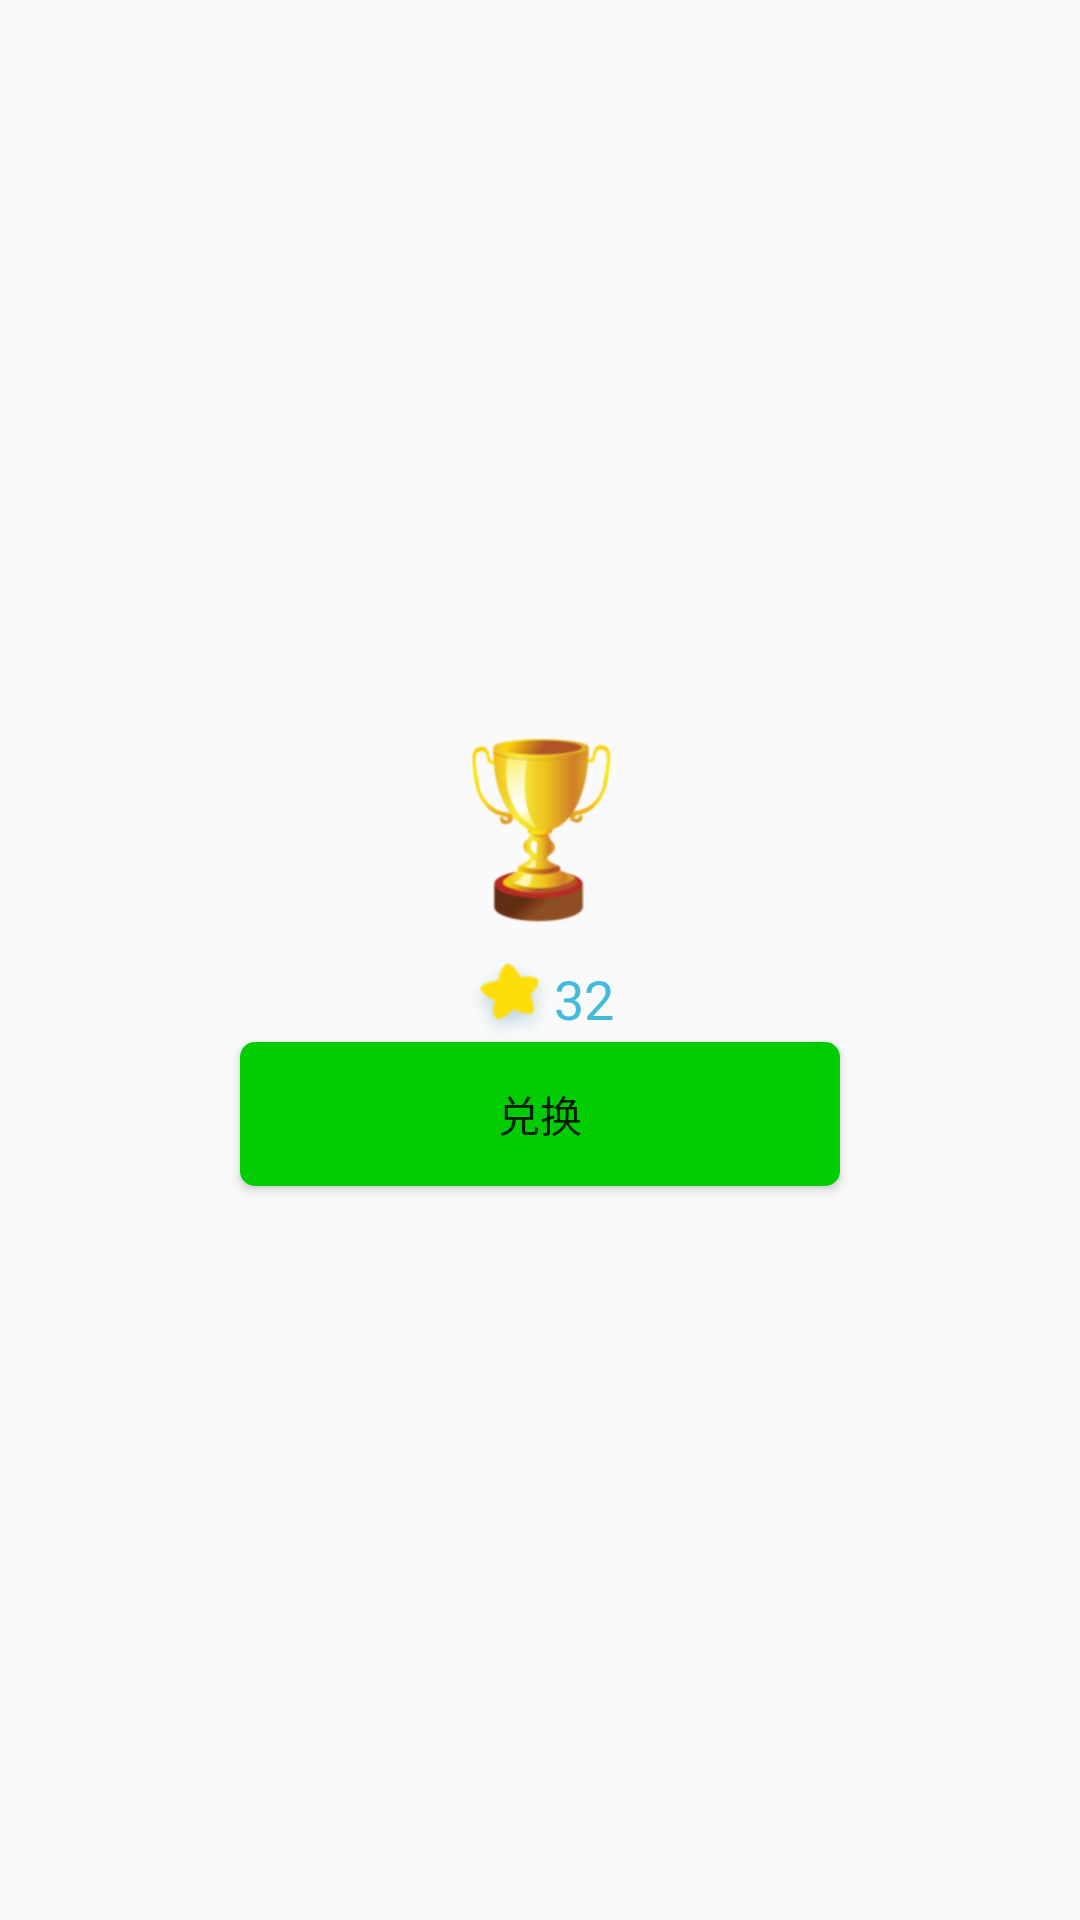

Icon bounding boxes for this 1080×1920 phone screenshot, format (x1, y1, x2, y2):
prize: (471, 738, 611, 922)
star: (480, 963, 539, 1024)
